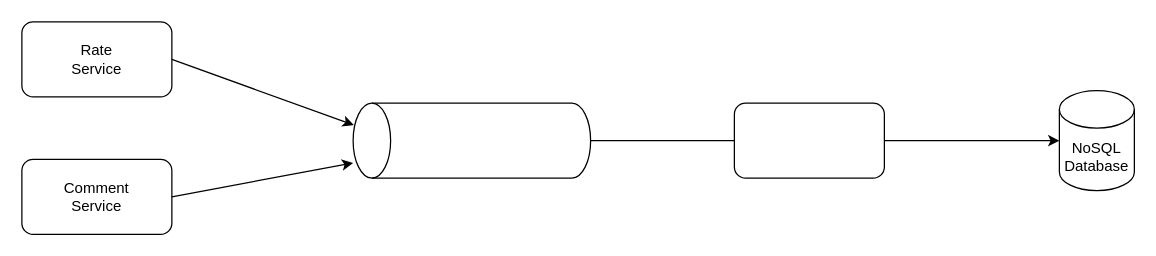
Some shapes in this 1156 by 256 pixel diagram are drawn without their labels. Here are the shapes that lost their labels. From the top down, the centre of each, then its label:
At point 471,140: "Kafka Streams".
At point 808,140: "NoSQL Service".
